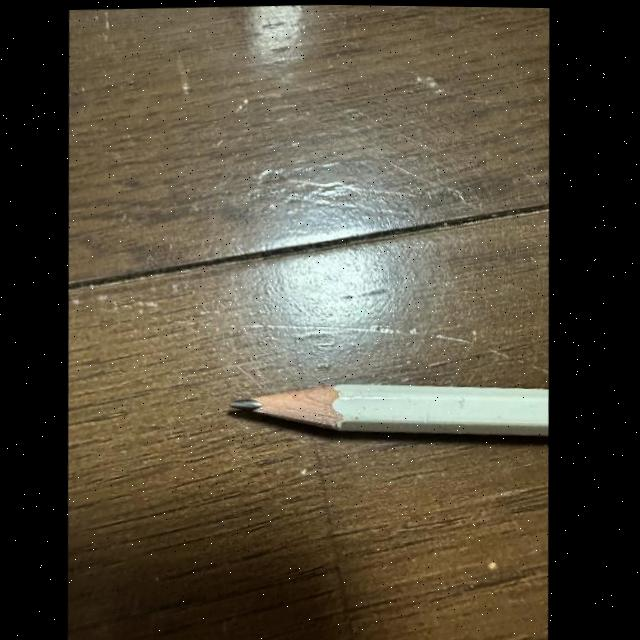pencil: (227, 366, 553, 458)
